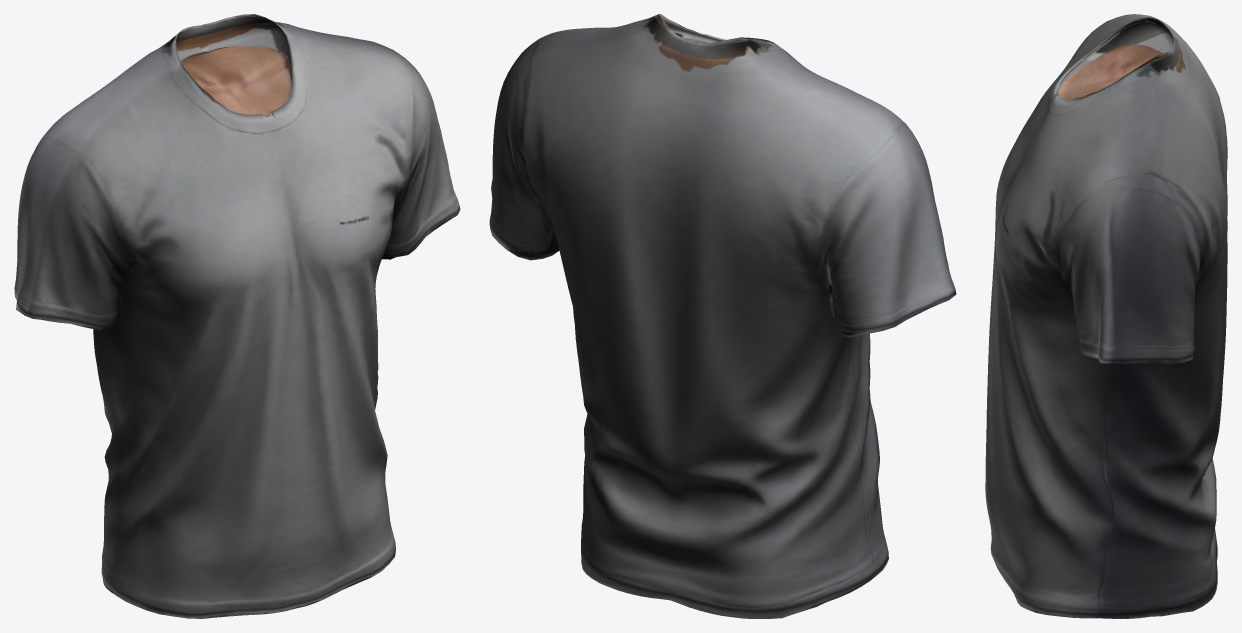
The model's file is shirt1.glb.
3 views of the same model, side by side, from view 1: azimuth 30°, elevation 25°; view 2: azimuth 150°, elevation 25°; view 3: azimuth 270°, elevation 25° (orthographic). The views are drawn at different scales.
Bounding box in the file's own units: 1.75 × 2.01 × 0.8348.
Materials: 1 (1 with a texture image).
